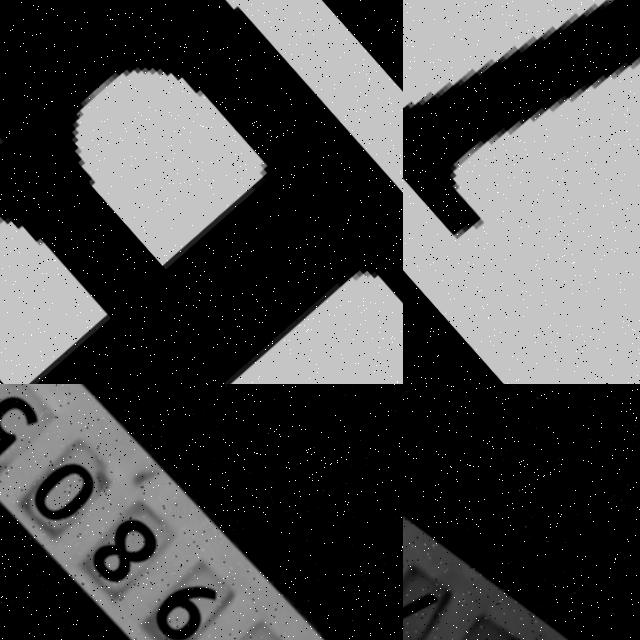0: (4, 422, 136, 558)
5: (0, 384, 73, 495)
7: (403, 542, 479, 640), (424, 598, 542, 640)
8: (66, 480, 196, 615)
9: (127, 535, 261, 640), (192, 600, 315, 640)
J: (403, 0, 640, 384)
